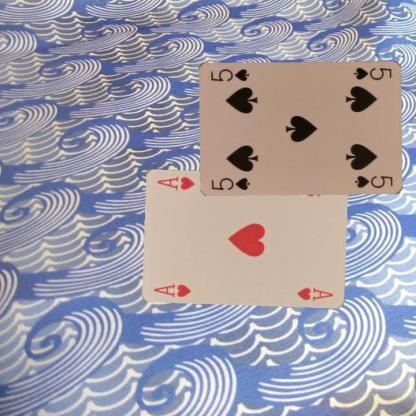5s: (351, 64, 393, 81), (209, 175, 251, 191)
Ah: (152, 281, 192, 299)
